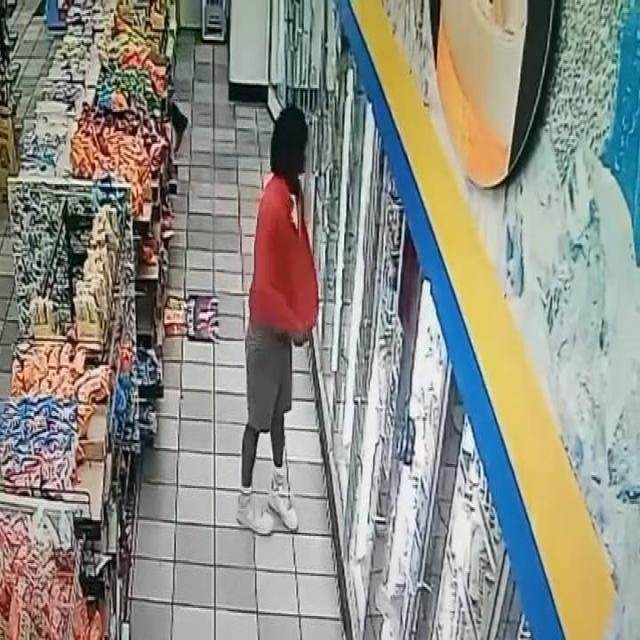Shoplifting: (237, 86, 343, 562)
